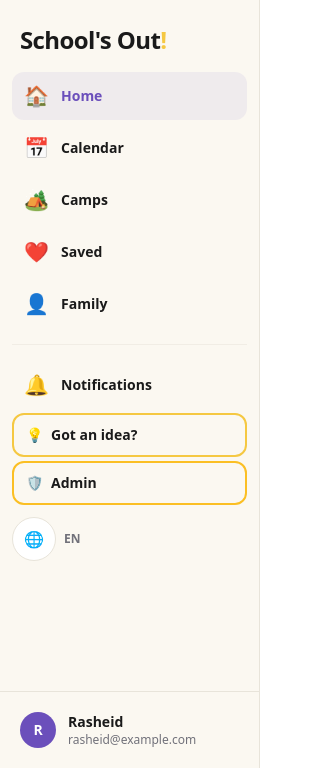
app/SideNav › shows the Admin link in the user menu when isAdmin is true
Click the button "R Rasheid rasheid@example.com": {"x": 130, "y": 730} [12,704,247,756]
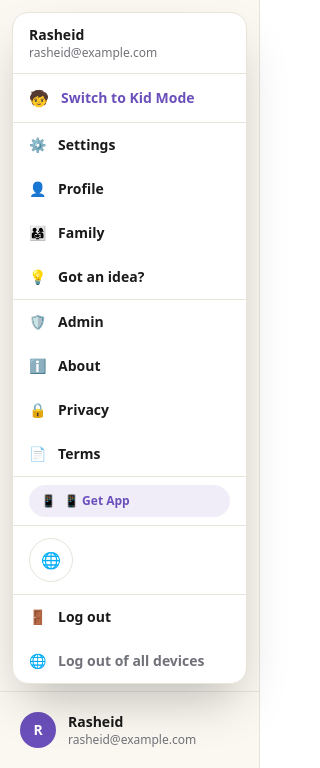
Expected: the link to "/en/admin" is shown, [29,312,104,331]
